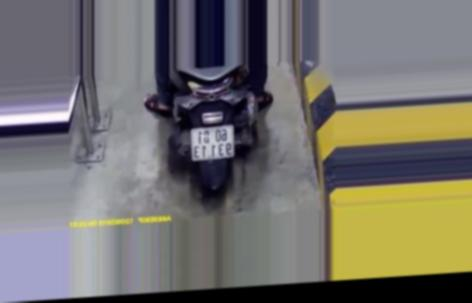License_Plate: (186, 121, 238, 167)
